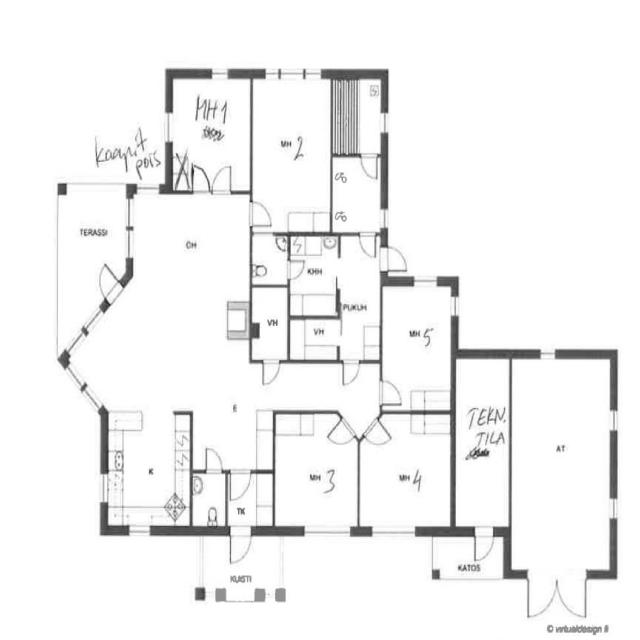door: (528, 569, 557, 616), (557, 569, 585, 616), (92, 264, 124, 305), (362, 415, 391, 453), (328, 416, 356, 452), (230, 526, 251, 562), (474, 526, 494, 562), (230, 469, 251, 499), (192, 165, 212, 194), (381, 248, 406, 270), (249, 202, 271, 226), (212, 165, 230, 194), (342, 359, 360, 385), (381, 381, 400, 403), (359, 231, 375, 256), (361, 153, 377, 178), (263, 359, 279, 384), (286, 260, 306, 279), (207, 450, 222, 473)
